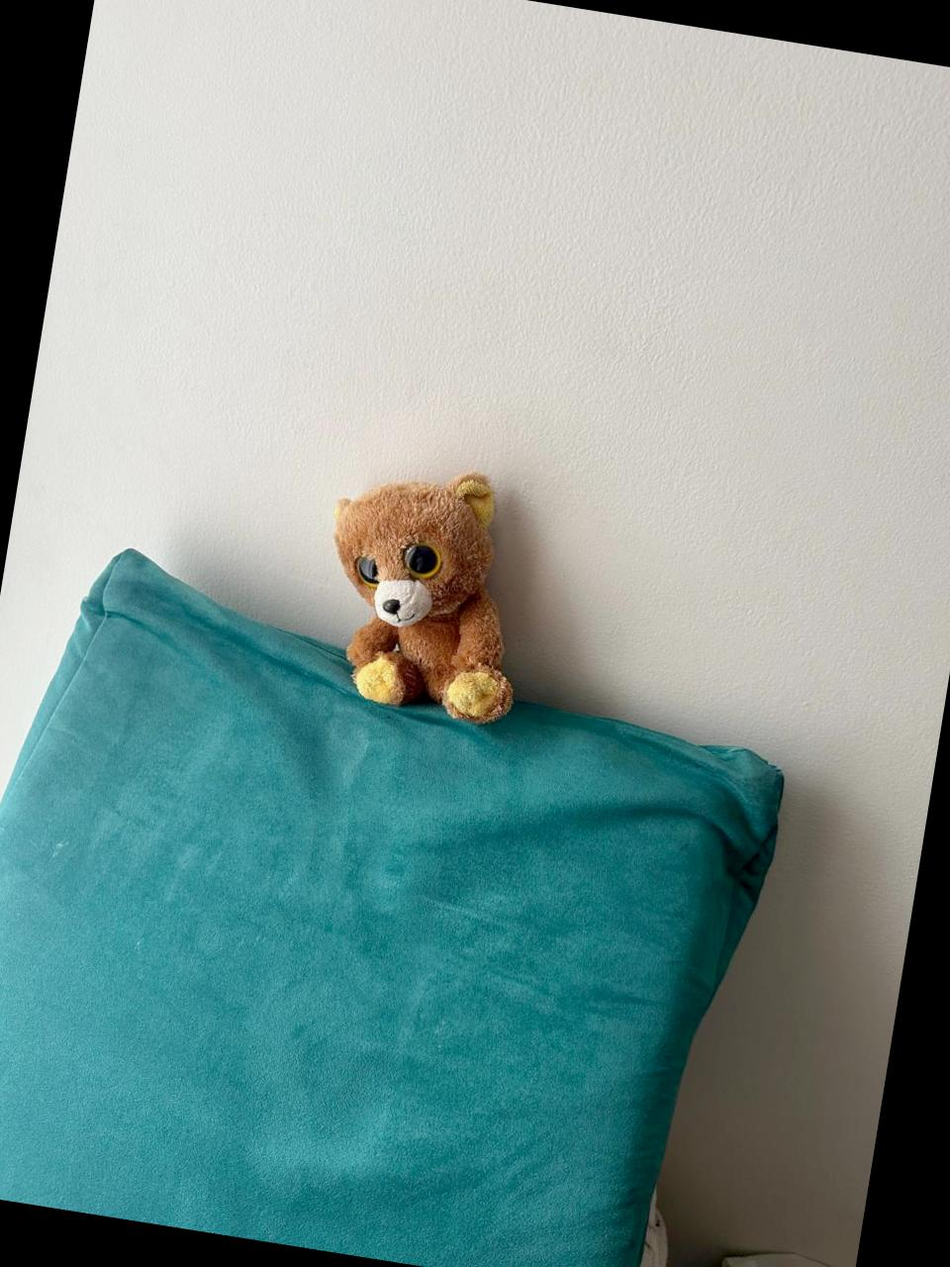peluche_sebastian: (305, 440, 551, 727)
